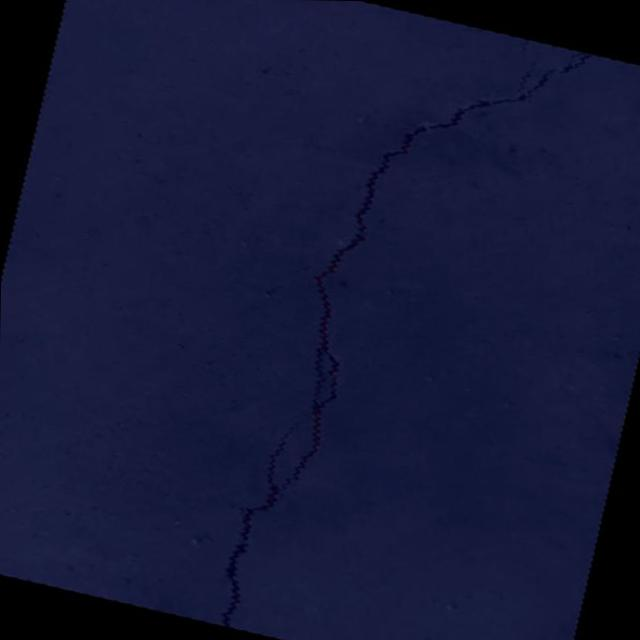crack: (206, 0, 597, 640), (589, 56, 640, 115), (516, 39, 530, 72)
